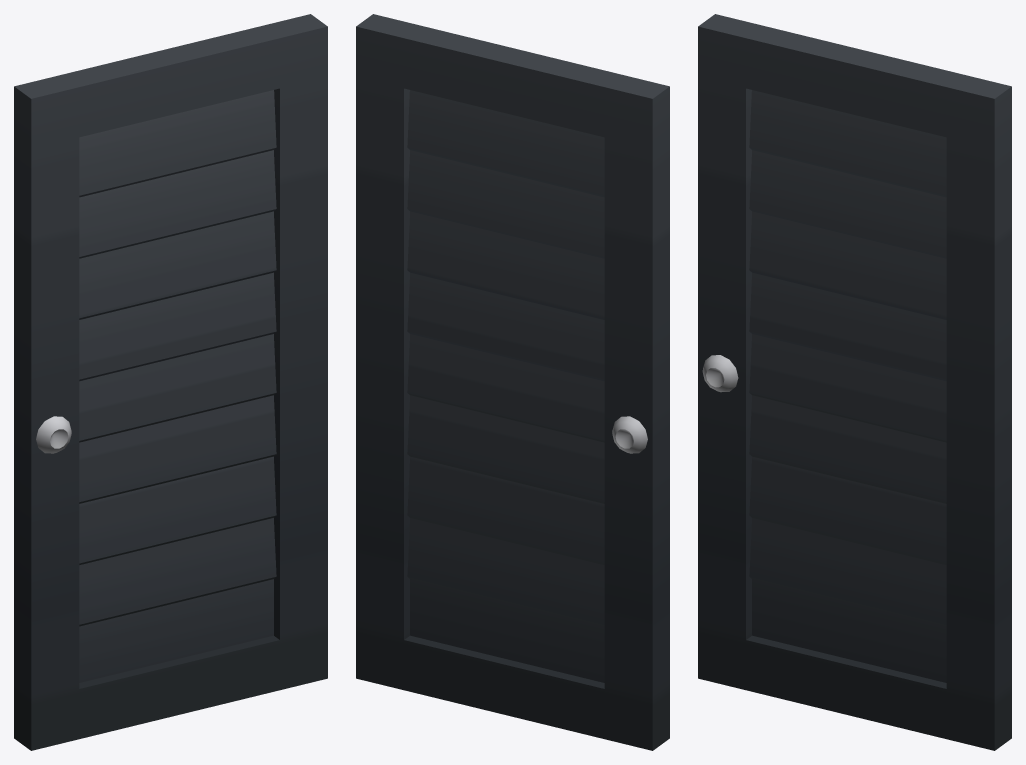
Rendered from Door_Black_07.glb.
The picture shows the model from 3 angles, left to right: view 1: azimuth 30°, elevation 25°; view 2: azimuth 150°, elevation 25°; view 3: azimuth 330°, elevation 25°; orthographic projection.
Parts seen in each view (by area): view 1: Door_Black_07; view 2: Door_Black_07; view 3: Door_Black_07.
Boxes of the visible parts, left/top/right/bottom form: Door_Black_07: left=14, top=14, right=327, bottom=750; Door_Black_07: left=356, top=14, right=669, bottom=750; Door_Black_07: left=698, top=14, right=1011, bottom=750.
Size of the model in its own units: 1 by 2.1 by 0.1634.
Materials: 1 (1 with a texture image).
